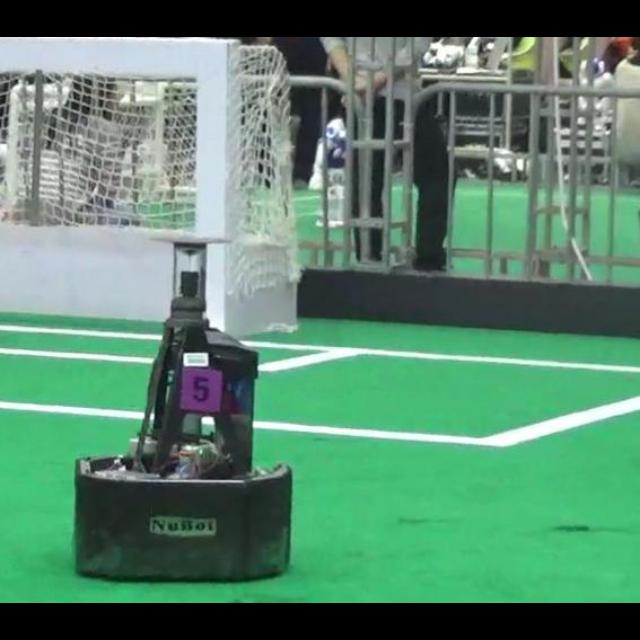goal: (196, 40, 232, 330)
robot: (76, 244, 292, 580)
